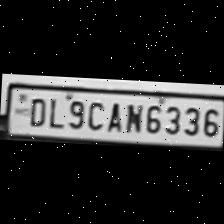3: (160, 102, 180, 136), (180, 102, 200, 136)
6: (197, 104, 220, 138), (142, 100, 162, 134)
9: (62, 95, 86, 129)
A: (102, 99, 124, 133)
C: (84, 96, 104, 130)
D: (22, 93, 48, 126)
L: (44, 94, 64, 128)
N: (122, 100, 142, 132)
